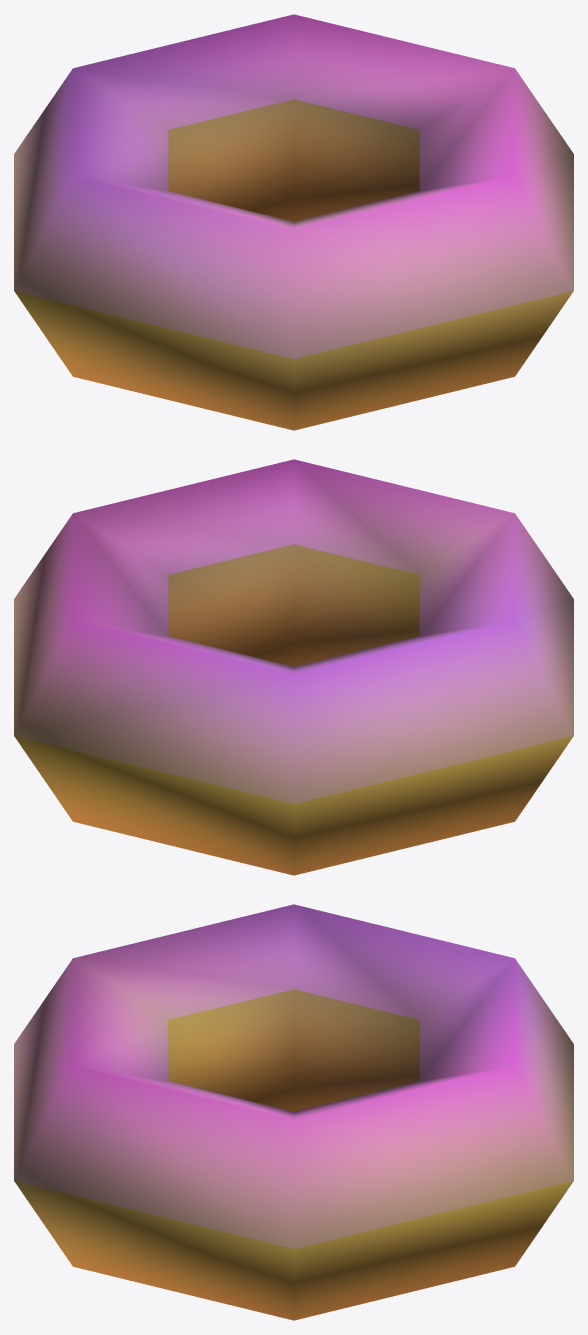
The model's file is food.glb.
3 views of the same model, one above another, from view 1: azimuth 30°, elevation 25°; view 2: azimuth 150°, elevation 25°; view 3: azimuth 270°, elevation 25° (orthographic).
Parts seen in each view (by area): view 1: StoneFloor_F3d; view 2: StoneFloor_F3d; view 3: StoneFloor_F3d.
Boxes of the visible parts, left/top/right/bottom form: StoneFloor_F3d: left=14, top=14, right=573, bottom=430; StoneFloor_F3d: left=14, top=459, right=573, bottom=875; StoneFloor_F3d: left=14, top=904, right=573, bottom=1320.
Size of the model in its own units: 2.5 by 0.8562 by 2.17.
